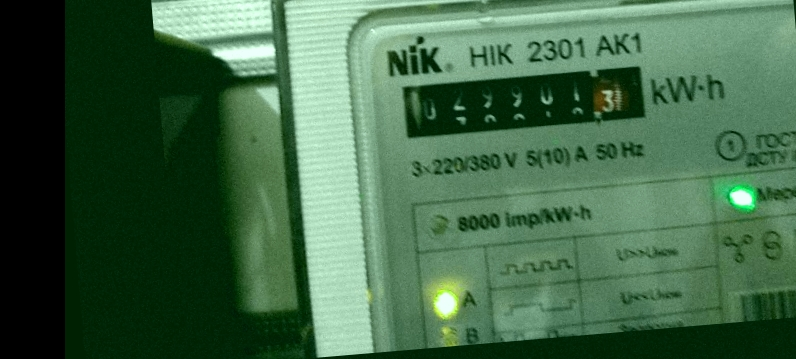0: (419, 93, 440, 121), (537, 77, 556, 107)
1: (568, 73, 584, 102)
2: (449, 84, 469, 112)
3: (598, 86, 618, 113)
9: (479, 82, 497, 110), (510, 80, 525, 108)
screen: (393, 54, 658, 148)
